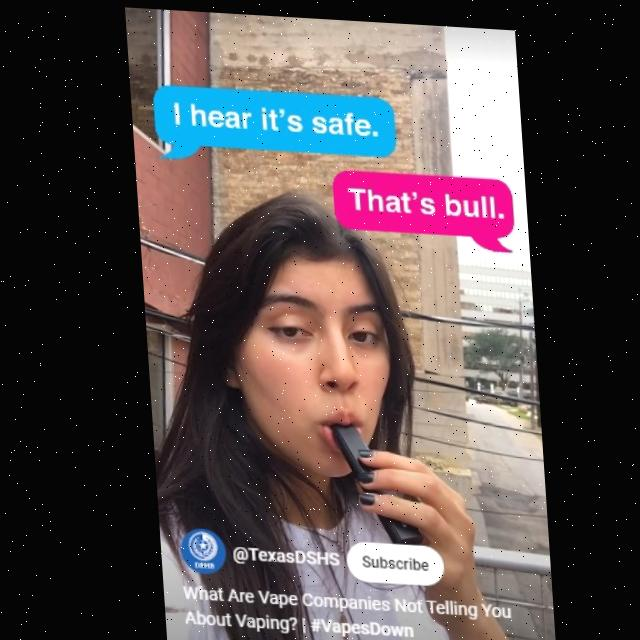vape: (325, 420, 417, 540)
